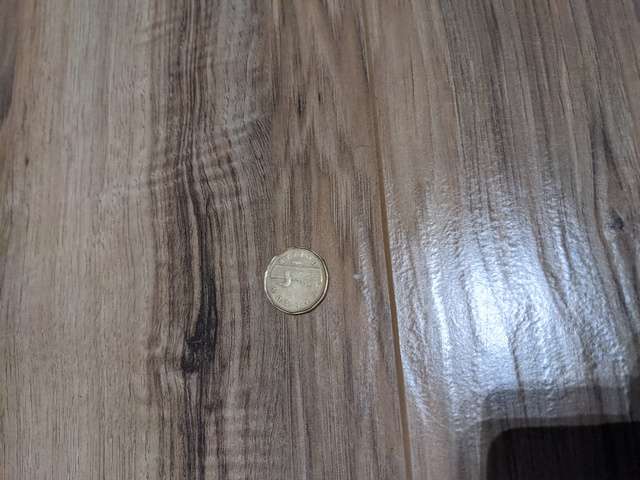loonie: (260, 239, 336, 321)
